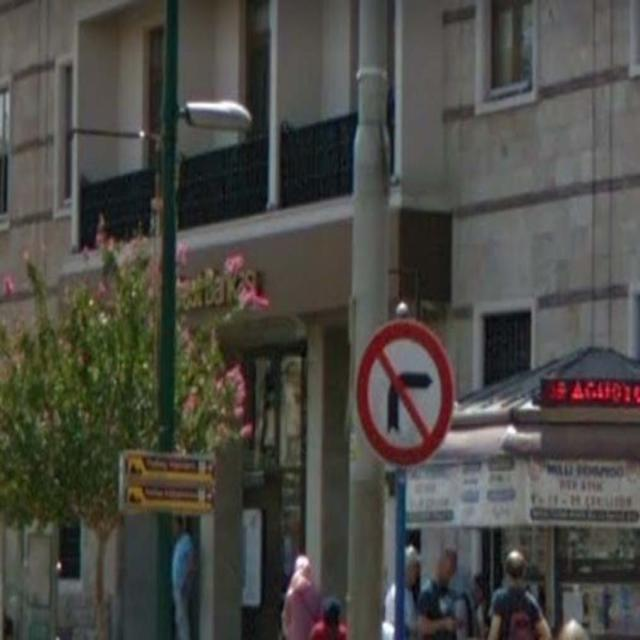sagadonulmez: (356, 319, 454, 466)
